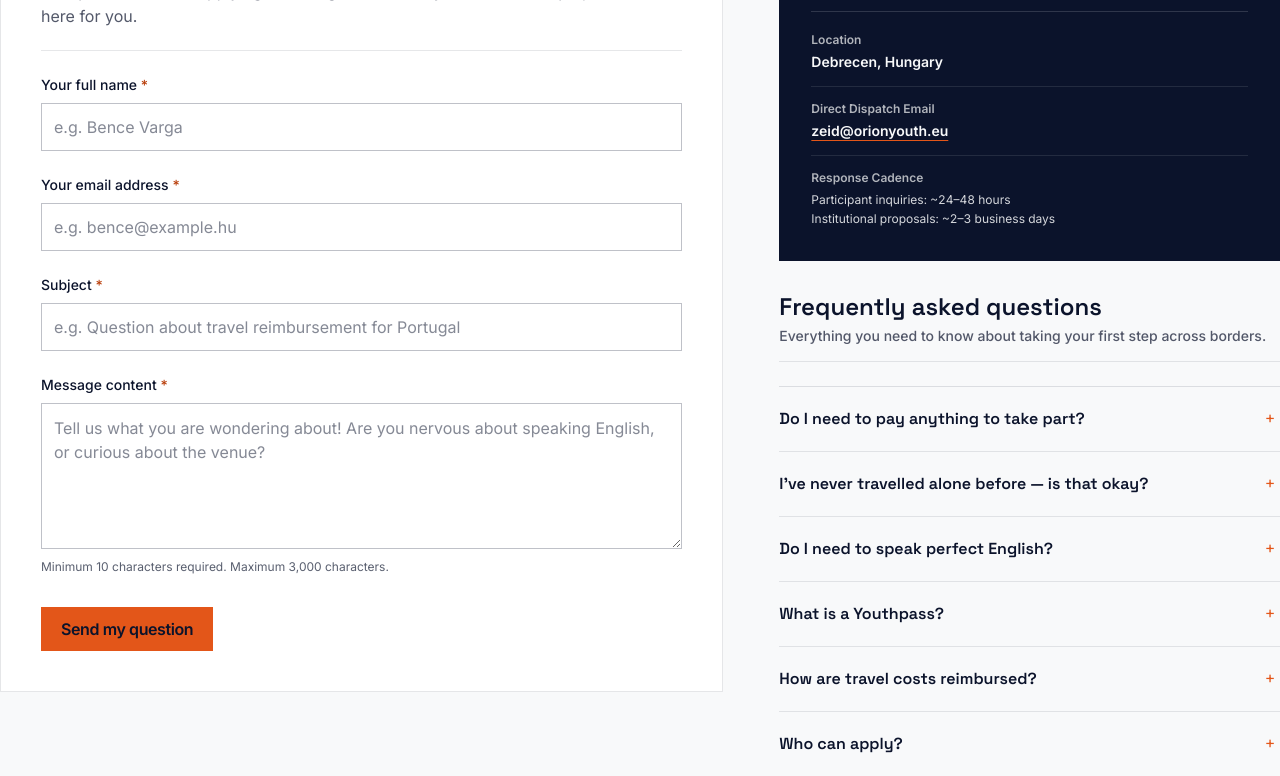
Test: Contact Partition Components › TwoModeContactForm › validates required fields on empty submit
(page scrolled)
Click the button "Send my question". click: (127, 629)
box: [41, 607, 213, 651]
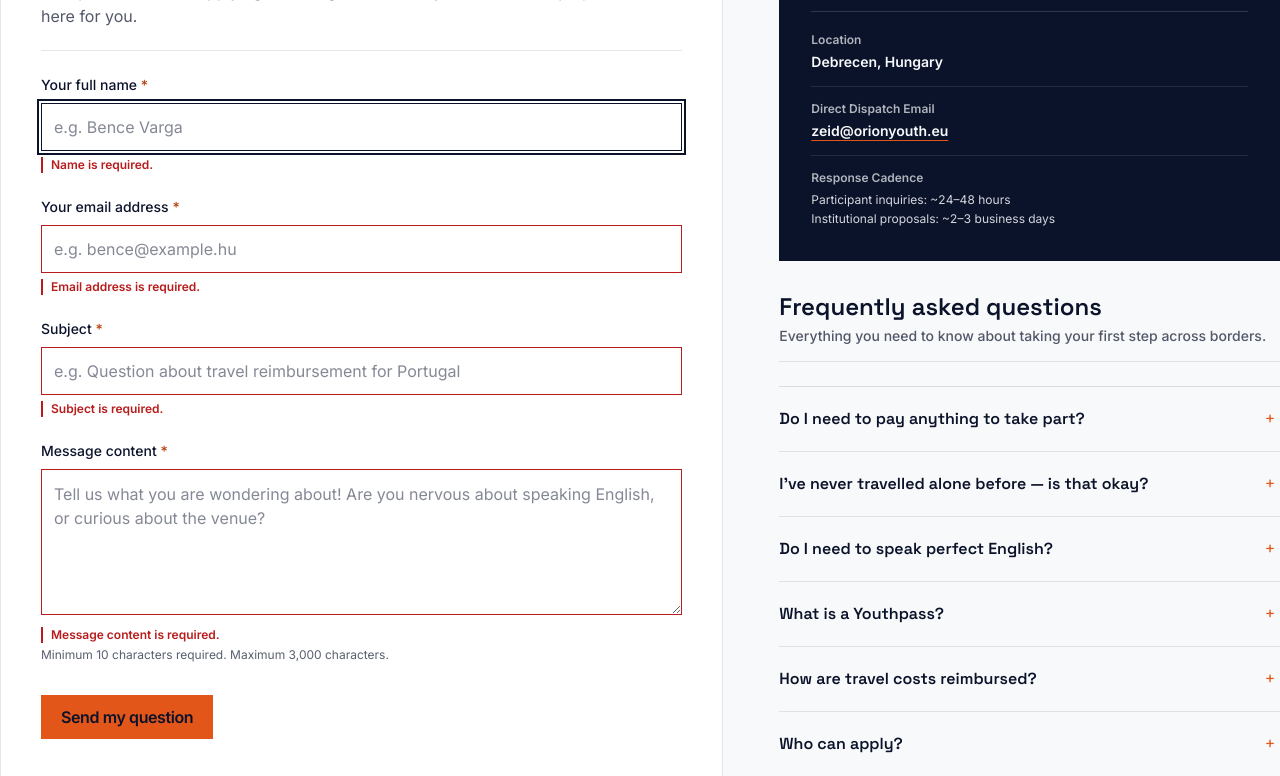
Result: the text "Name is required." is shown at [41, 157, 682, 173]
Result: the text "Email address is required." is shown at [41, 279, 682, 295]
Result: the text "Subject is required." is shown at [41, 401, 682, 417]
